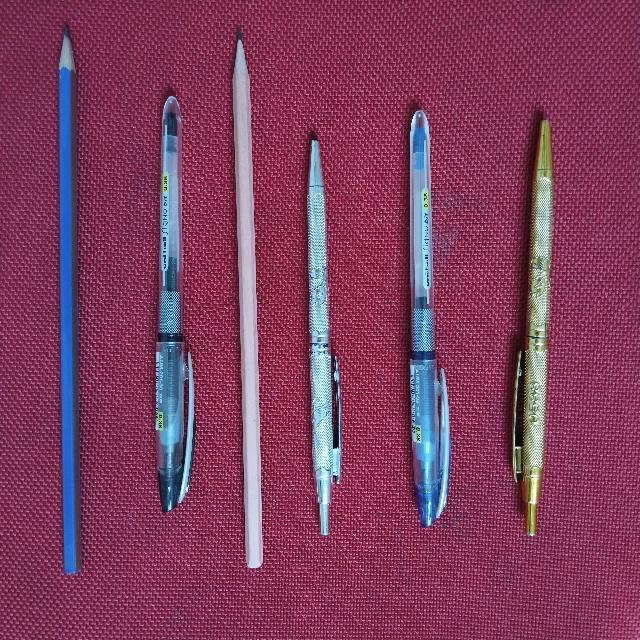pen: (410, 110, 450, 526), (155, 96, 194, 511)
pencil: (232, 30, 262, 567), (59, 27, 81, 573)
signature pen: (513, 120, 552, 535), (307, 140, 341, 534)
